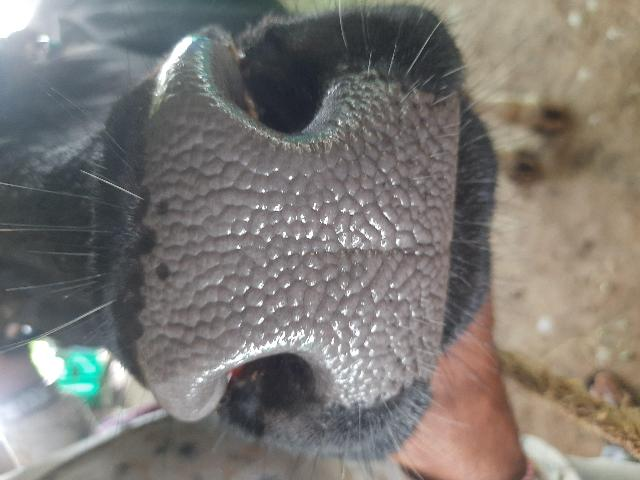Muzzle: (156, 112, 444, 358)
